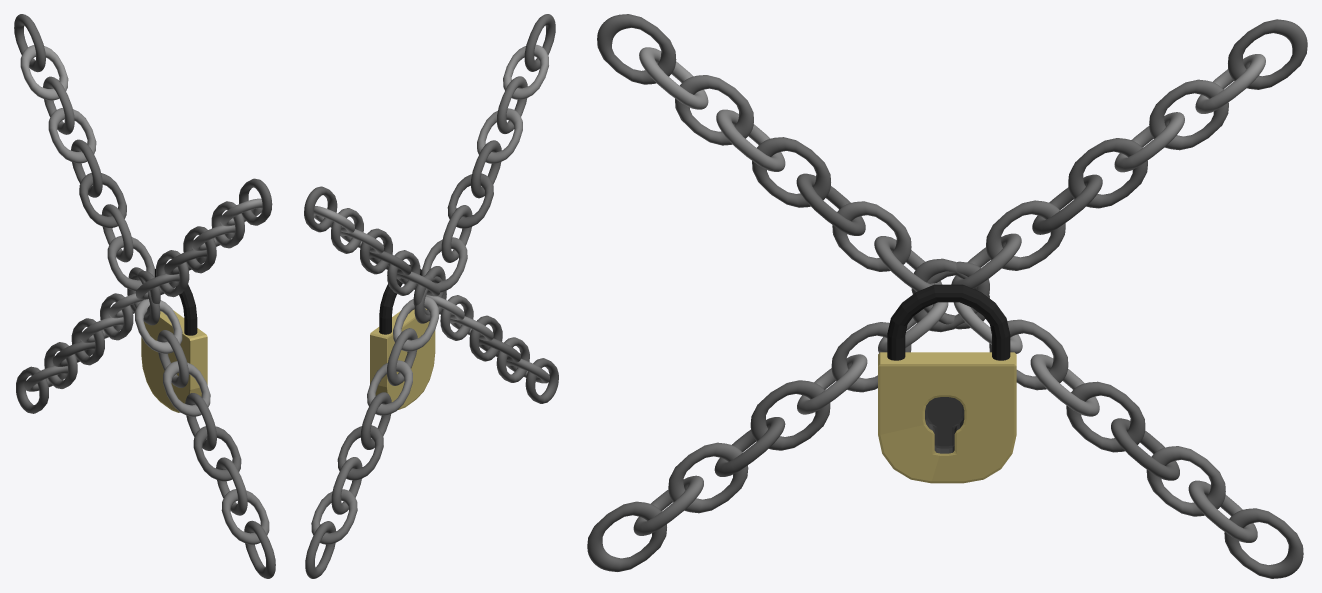
Rendered from chain.fbx.
3 views of the same model, side by side, from view 1: azimuth 30°, elevation 25°; view 2: azimuth 150°, elevation 25°; view 3: azimuth 270°, elevation 25° (orthographic). The views are drawn at different scales.
Visible parts, largest first — view 1: Cube.001, Circle.020, Circle.022, Circle.025, Circle.027, Circle.029, Circle.018, Circle.031, Circle.001, Circle.026, Circle.024, Circle.028 (+24 smaller); view 2: Cube.001, Circle.009, Circle.004, Circle.013, Circle.011, Circle.002, Circle.006, Circle.015, Circle.010, Circle.008, Circle, Circle.012 (+24 smaller); view 3: Cube.001, Cube.002, Circle.024, Circle.026, Circle.008, Circle.010, Circle.012, Circle.019, Circle.021, Circle.023, Circle.028, Circle.005 (+23 smaller).
Part boxes in pixels (<box>): Cube.001: <box>141,310,207,412</box>; Circle.020: <box>48,108,96,163</box>; Circle.022: <box>20,45,68,100</box>; Circle.025: <box>221,489,269,544</box>; Circle.027: <box>193,426,241,481</box>; Circle.029: <box>163,361,210,416</box>; Circle.018: <box>79,173,126,227</box>; Circle.031: <box>135,299,182,353</box>; Circle.001: <box>107,235,154,291</box>; Circle.026: <box>244,520,275,578</box>; Circle.024: <box>14,14,45,72</box>; Circle.028: <box>216,457,247,515</box>; Cube.001: <box>370,308,435,409</box>; Circle.009: <box>311,489,357,544</box>; Circle.004: <box>477,108,522,163</box>; Circle.013: <box>367,360,412,415</box>; Circle.011: <box>337,425,383,480</box>; Circle.002: <box>447,173,493,228</box>; Circle.006: <box>503,44,548,99</box>; Circle.015: <box>393,296,438,351</box>; Circle.010: <box>305,521,335,578</box>; Circle.008: <box>524,14,555,71</box>; Circle: <box>421,237,467,292</box>; Circle.012: <box>331,457,362,514</box>; Cube.001: <box>878,352,1016,483</box>; Cube.002: <box>887,284,1010,360</box>; Circle.024: <box>1228,19,1307,89</box>; Circle.026: <box>587,501,666,571</box>; Circle.008: <box>597,14,676,84</box>; Circle.010: <box>1224,508,1303,578</box>; Circle.012: <box>1146,446,1225,516</box>; Circle.019: <box>986,200,1065,270</box>; Circle.021: <box>1068,138,1147,208</box>; Circle.023: <box>1149,79,1228,150</box>; Circle.028: <box>668,442,748,513</box>; Circle.005: <box>752,137,830,207</box>.
Size of the model in its own units: 39.35 by 259 by 299.
